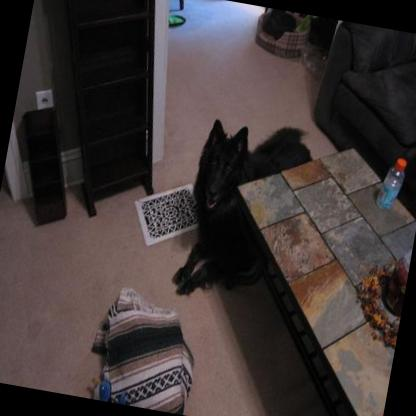groenendael: (167, 107, 324, 321)
